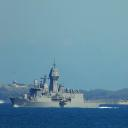Fragata: (9, 59, 102, 110)
